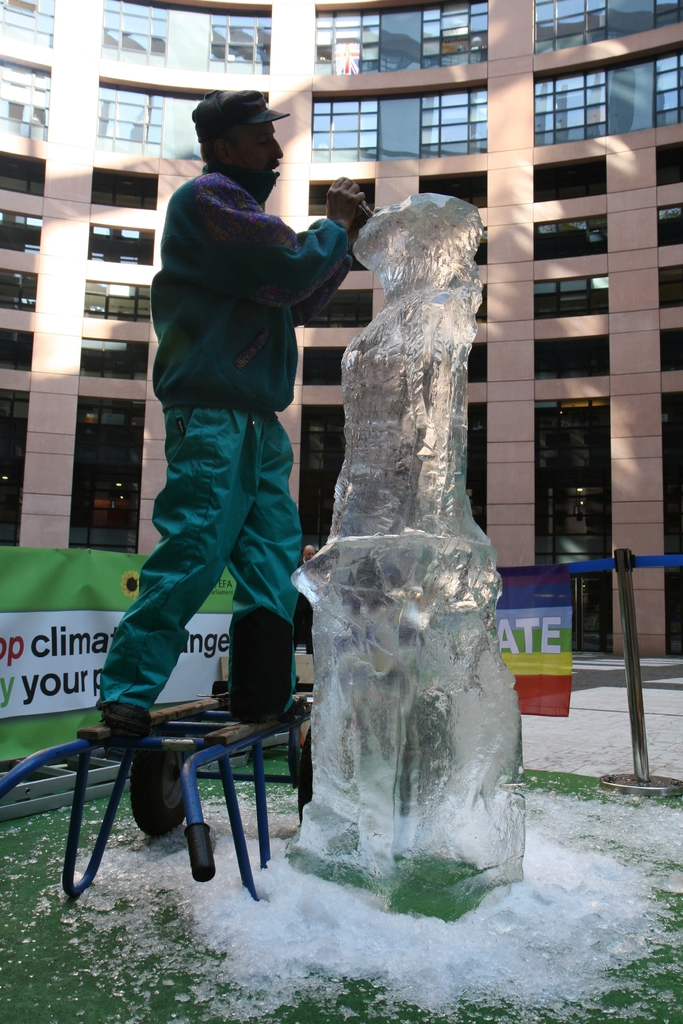Human_hand: (324, 173, 368, 226), (350, 199, 369, 244)
